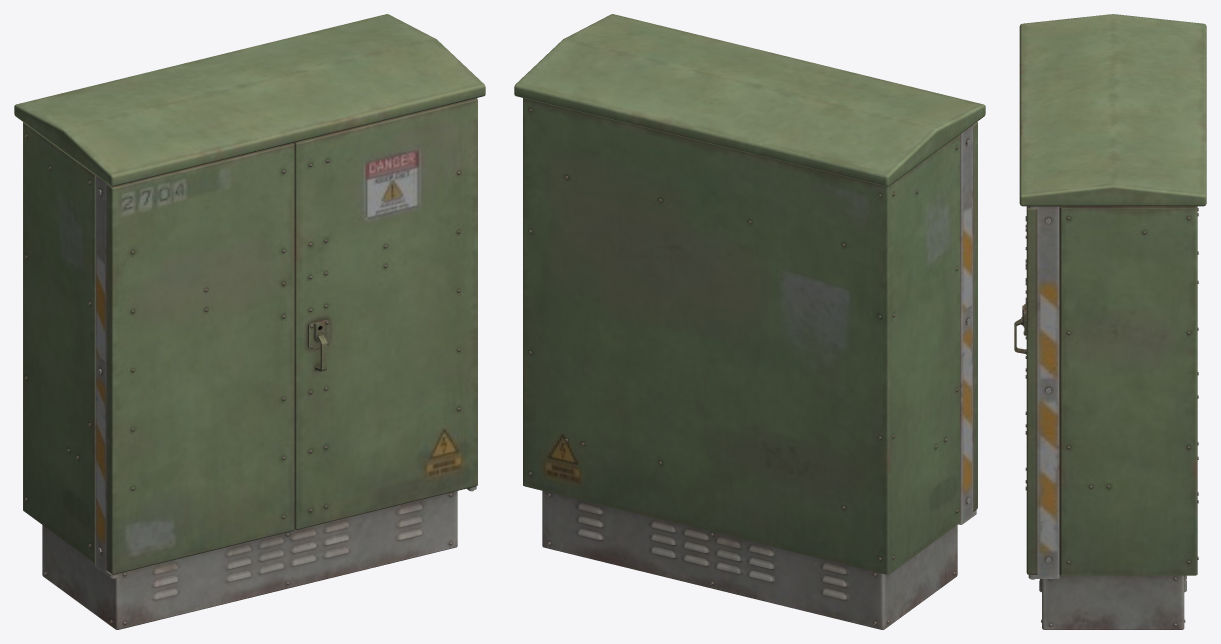
Rendered from utility_box_02.glb.
The picture shows the model from 3 angles, left to right: view 1: azimuth 30°, elevation 25°; view 2: azimuth 150°, elevation 25°; view 3: azimuth 270°, elevation 25°; orthographic projection. The views are drawn at different scales.
Visible parts, largest first — view 1: utility_box_02; view 2: utility_box_02; view 3: utility_box_02.
Part boxes in pixels (left/top/right/bottom): utility_box_02: left=14, top=14, right=485, bottom=629; utility_box_02: left=514, top=14, right=985, bottom=629; utility_box_02: left=1014, top=14, right=1206, bottom=629.
Size of the model in its own units: 0.92 by 1.12 by 0.432.
Materials: 1 (1 with a texture image).
